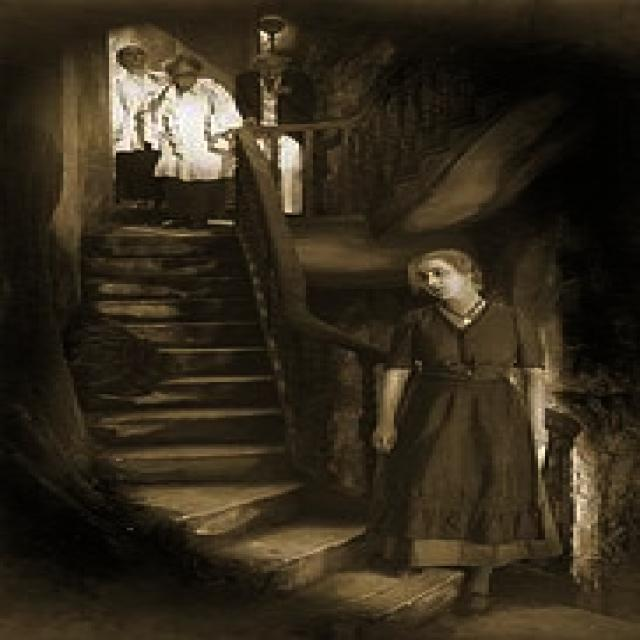picture: (106, 42, 609, 602)
